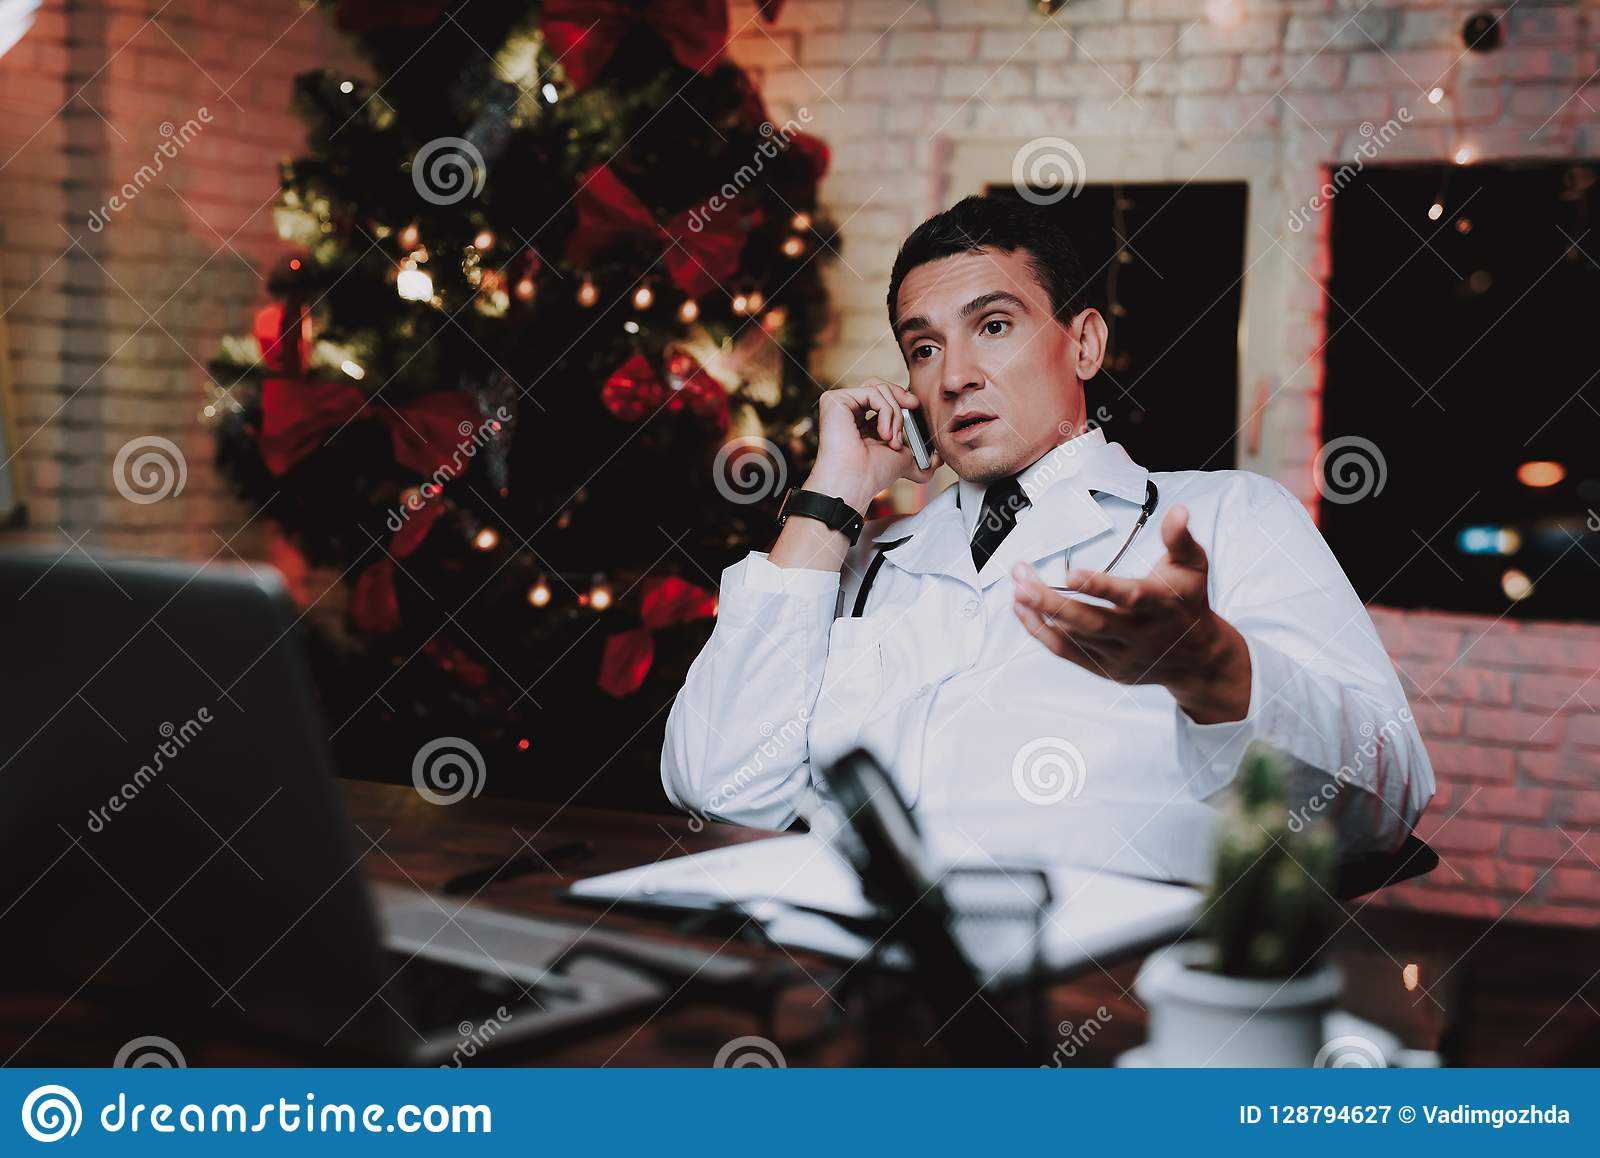phone: (888, 379, 942, 476)
talk: (812, 286, 1042, 501)
